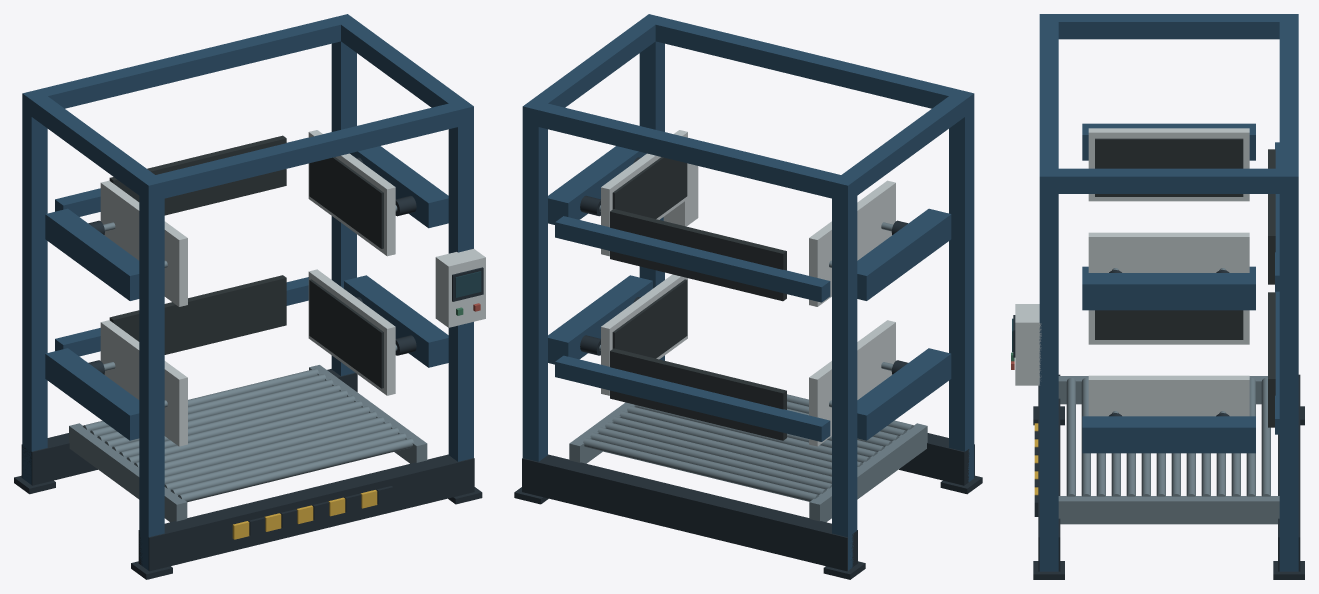
File: centering-station.glb
3 renders of one model, left to right at view 1: azimuth 30°, elevation 25°; view 2: azimuth 150°, elevation 25°; view 3: azimuth 270°, elevation 25°, orthographic. The views are drawn at different scales.
Visible parts, largest first — view 1: centering-frame-machineFrame, centering-entry-bed-surface, centering-frame-surface, centering-rear-stop-1-rubber, centering-operator-panel-surface (×2), centering-jaw-1-right-rubber, centering-jaw-2-left-machineFrame, centering-jaw-1-left-machineFrame, centering-jaw-2-right-rubber, centering-jaw-2-left-surface, centering-jaw-1-left-surface, centering-rear-stop-2-rubber (+7 smaller); view 2: centering-frame-machineFrame, centering-entry-bed-surface, centering-frame-surface, centering-rear-stop-1-machineFrame, centering-rear-stop-2-machineFrame, centering-rear-stop-2-rubber, centering-rear-stop-1-rubber, centering-jaw-1-left-machineFrame, centering-jaw-2-left-machineFrame, centering-jaw-1-right-rubber, centering-jaw-1-left-surface, centering-jaw-2-left-surface (+6 smaller); view 3: centering-frame-machineFrame, centering-entry-bed-surface, centering-jaw-1-right-surface, centering-jaw-1-right-machineFrame, centering-jaw-2-right-machineFrame, centering-jaw-2-right-surface, centering-jaw-2-left-rubber, centering-jaw-1-left-rubber, centering-jaw-2-left-surface, centering-frame-surface, centering-operator-panel-surface (×2), centering-jaw-2-left-machineFrame (+5 smaller).
Part boxes in pixels (x1,y1,x2,y2): centering-frame-machineFrame: (22,14,473,570); centering-entry-bed-surface: (69,365,427,522); centering-frame-surface: (14,369,482,579); centering-rear-stop-1-rubber: (109,275,286,354); centering-operator-panel-surface (×2): (248,249,485,535); centering-jaw-1-right-rubber: (309,279,383,388); centering-jaw-2-left-machineFrame: (45,208,139,300); centering-jaw-1-left-machineFrame: (45,348,139,440); centering-jaw-2-right-rubber: (309,157,383,248); centering-jaw-2-left-surface: (100,180,187,306); centering-jaw-1-left-surface: (100,320,187,446); centering-rear-stop-2-rubber: (109,135,286,215); centering-frame-machineFrame: (522,14,974,570); centering-entry-bed-surface: (569,394,927,522); centering-frame-surface: (514,433,982,579); centering-rear-stop-1-machineFrame: (555,355,830,441); centering-rear-stop-2-machineFrame: (555,216,830,302); centering-rear-stop-2-rubber: (610,209,786,301); centering-rear-stop-1-rubber: (610,348,786,440); centering-jaw-1-left-machineFrame: (857,348,951,440); centering-jaw-2-left-machineFrame: (857,208,951,300); centering-jaw-1-right-rubber: (612,279,687,358); centering-jaw-1-left-surface: (809,320,895,446); centering-jaw-2-left-surface: (809,180,895,306); centering-frame-machineFrame: (1039,14,1298,571); centering-entry-bed-surface: (1058,376,1279,524); centering-jaw-1-right-surface: (1088,375,1249,416); centering-jaw-1-right-machineFrame: (1082,416,1255,453); centering-jaw-2-right-machineFrame: (1082,273,1255,310); centering-jaw-2-right-surface: (1088,232,1249,272); centering-jaw-2-left-rubber: (1095,138,1243,196); centering-jaw-1-left-rubber: (1095,310,1243,339); centering-jaw-2-left-surface: (1088,128,1249,201); centering-frame-surface: (1033,374,1304,579); centering-operator-panel-surface (×2): (1013,304,1041,516); centering-jaw-2-left-machineFrame: (1082,123,1255,160).
Size of the model in its own units: 2.52 by 2.8 by 1.86.
